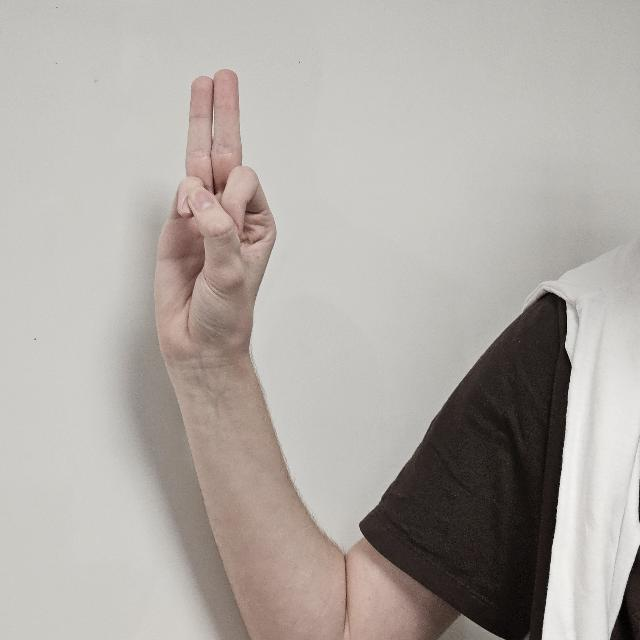R: (155, 51, 277, 387)
